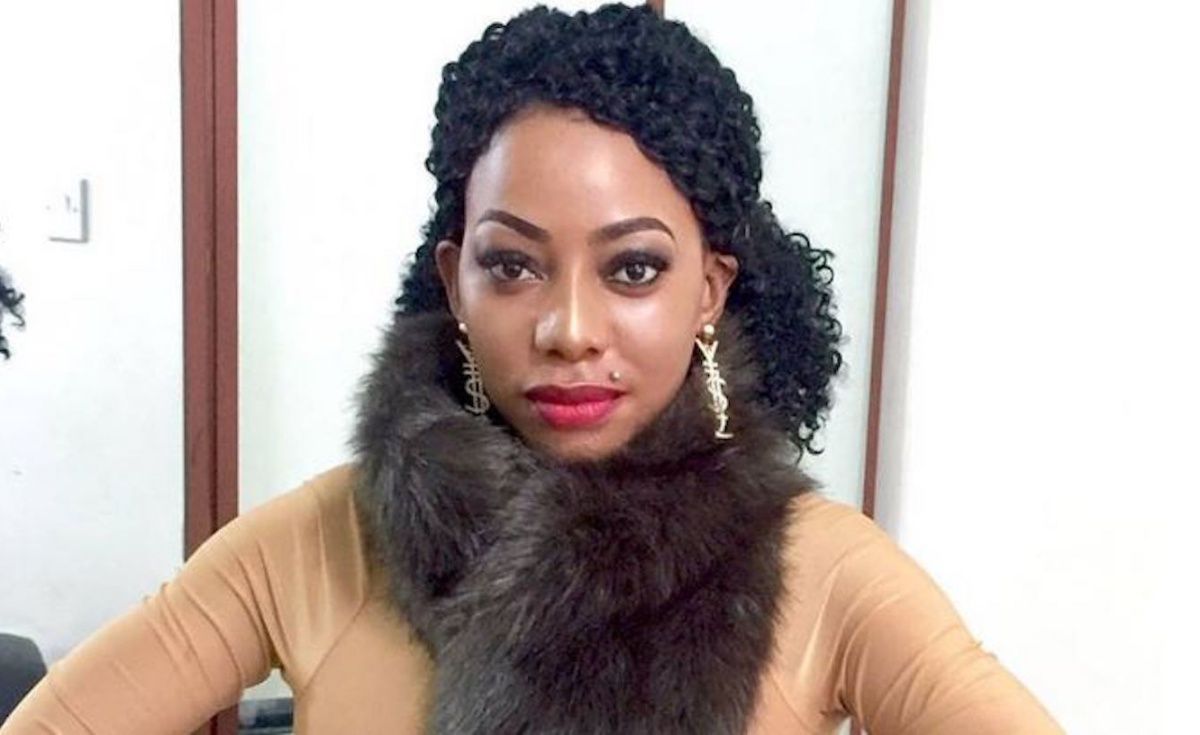mouth: (517, 379, 628, 428)
nose: (532, 327, 610, 361)
